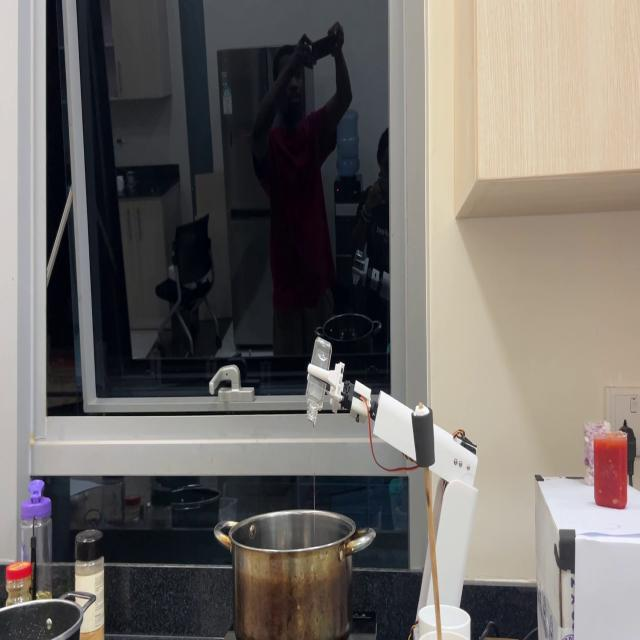blended_tomatoes_pepper: (596, 437, 629, 513)
cooking_pot: (218, 518, 382, 639)
spatula: (413, 401, 448, 640)
